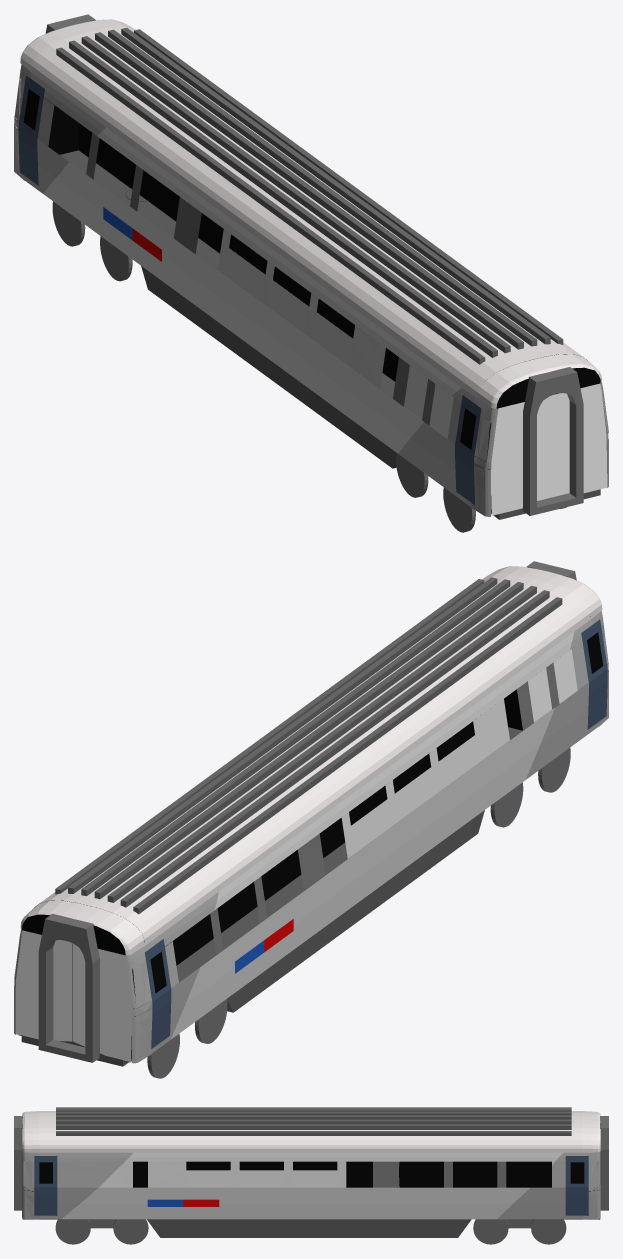
File: br-mk4-rsb-nxec.dae
3 renders of one model, top to bottom at view 1: azimuth 30°, elevation 25°; view 2: azimuth 150°, elevation 25°; view 3: azimuth 270°, elevation 25°, orthographic. The views are drawn at different scales.
Visible parts, largest first — view 1: Suzanne_001, Plane_134, Plane_100, Cube_002, Plane_111, Cube_008, Cube_004, Cube_003, Tube_002, Cube_009, Cube, Cube_010 (+22 smaller); view 2: Suzanne_001, Plane_134, Plane_001, Plane_111, Tube_003, Cube_002, Cube_008, Cube_004, Cube_003, Cube_009, Cube, Cube_010 (+21 smaller); view 3: Plane_007, Suzanne_001, Plane_111, Cube, Plane_153, Cube_009, Cube_010, Plane_160, Cube_004, Cube_008, Cube_011, Plane_005 (+29 smaller).
Boxes of the visible parts, bbox=[...] form: Suzanne_001: bbox=[31, 27, 587, 398]; Plane_134: bbox=[24, 152, 470, 506]; Plane_100: bbox=[491, 383, 607, 515]; Cube_002: bbox=[69, 40, 497, 357]; Plane_111: bbox=[78, 123, 398, 381]; Cube_008: bbox=[95, 32, 523, 349]; Cube_004: bbox=[81, 36, 510, 353]; Cube_003: bbox=[56, 47, 485, 364]; Tube_002: bbox=[522, 367, 583, 515]; Cube_009: bbox=[108, 29, 537, 346]; Cube: bbox=[141, 266, 396, 468]; Cube_010: bbox=[121, 27, 550, 344]; Suzanne_001: bbox=[34, 573, 590, 945]; Plane_134: bbox=[152, 696, 598, 1053]; Plane_001: bbox=[15, 930, 132, 1062]; Plane_111: bbox=[72, 721, 474, 1041]; Tube_003: bbox=[38, 913, 99, 1062]; Cube_002: bbox=[120, 590, 549, 907]; Cube_008: bbox=[94, 582, 523, 899]; Cube_004: bbox=[107, 585, 536, 902]; Cube_003: bbox=[133, 597, 562, 914]; Cube_009: bbox=[81, 579, 510, 896]; Cube: bbox=[227, 810, 484, 1012]; Cube_010: bbox=[68, 577, 497, 893]; Plane_007: bbox=[39, 1195, 582, 1219]; Suzanne_001: bbox=[39, 1111, 582, 1152]; Plane_111: bbox=[24, 1161, 597, 1191]; Cube: bbox=[147, 1219, 471, 1237]; Plane_153: bbox=[39, 1152, 582, 1157]; Cube_009: bbox=[56, 1119, 571, 1124]; Cube_010: bbox=[56, 1124, 571, 1129]; Plane_160: bbox=[186, 1161, 346, 1187]; Cube_004: bbox=[56, 1111, 571, 1115]; Cube_008: bbox=[56, 1115, 571, 1119]; Cube_011: bbox=[56, 1131, 571, 1135]; Plane_005: bbox=[57, 1191, 565, 1195].
Size of the model in its own units: 2.11 by 13.39 by 2.81.
